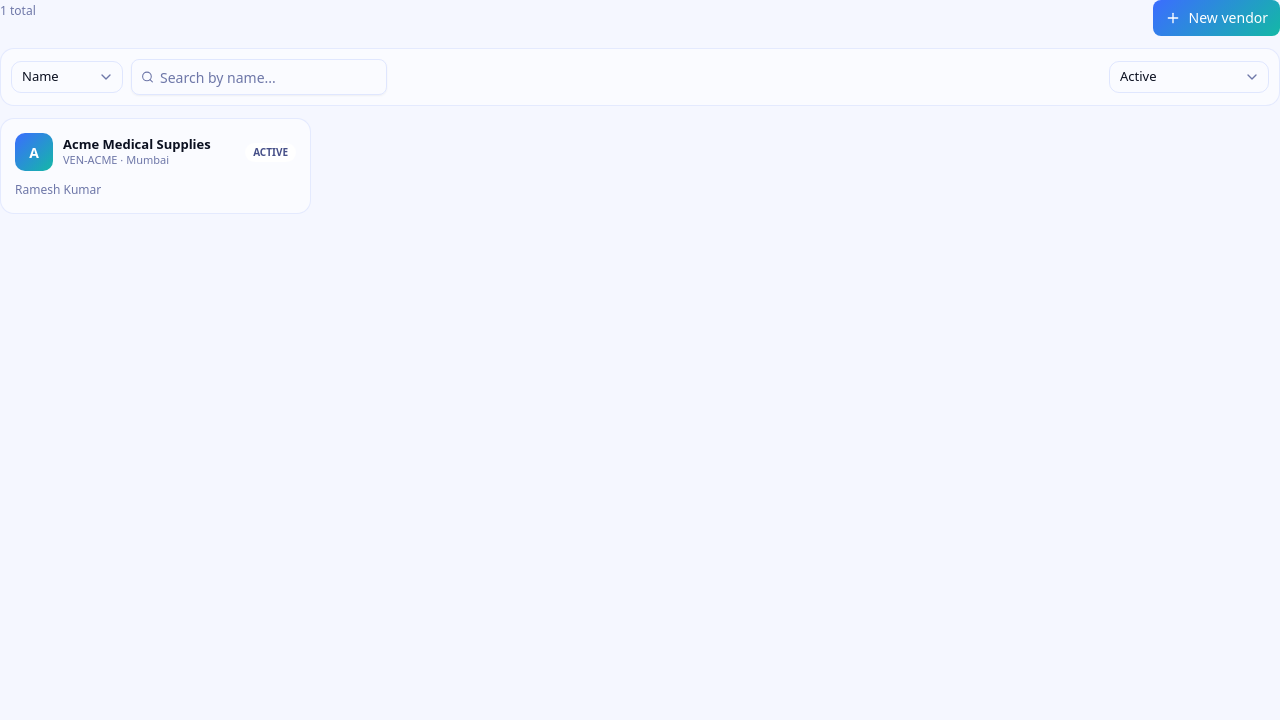
Scenario: InventoryVendorsPanel — card click opens a detail drawer, Edit lives inside it › a viewer with vendor-master:manage clicks a card to open the drawer, then Edit inside it to open the edit modal
Click the text "Acme Medical Supplies" at x=149, y=144, box [63,136,235,152]
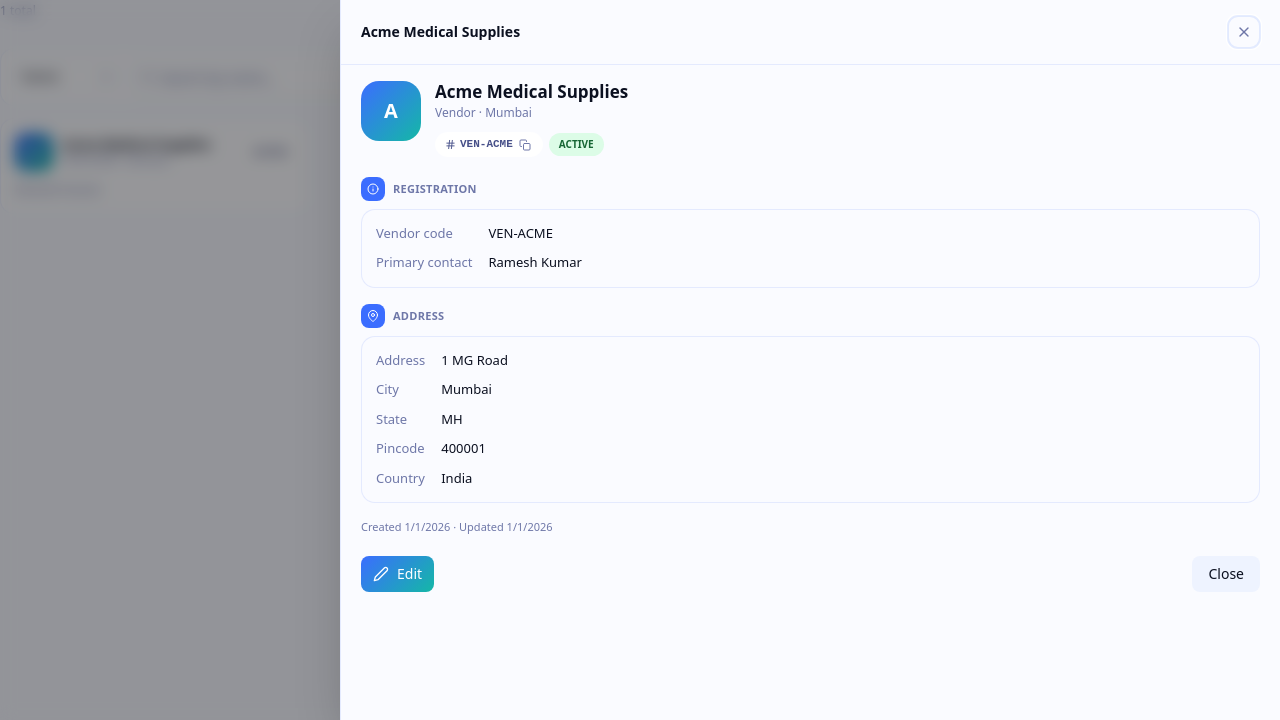
Click the button "Edit" at x=398, y=574, box [361,556,434,592]
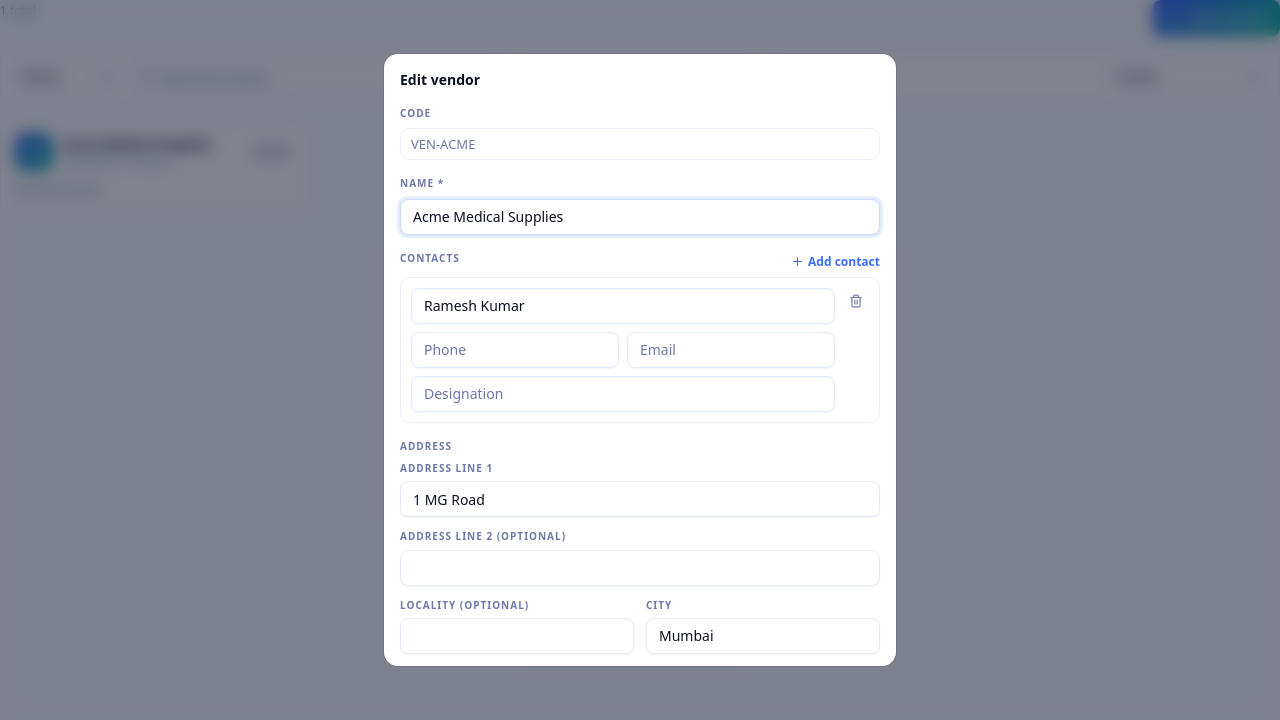
Expected: the heading "Edit vendor" is shown, [400,70,480,89]
